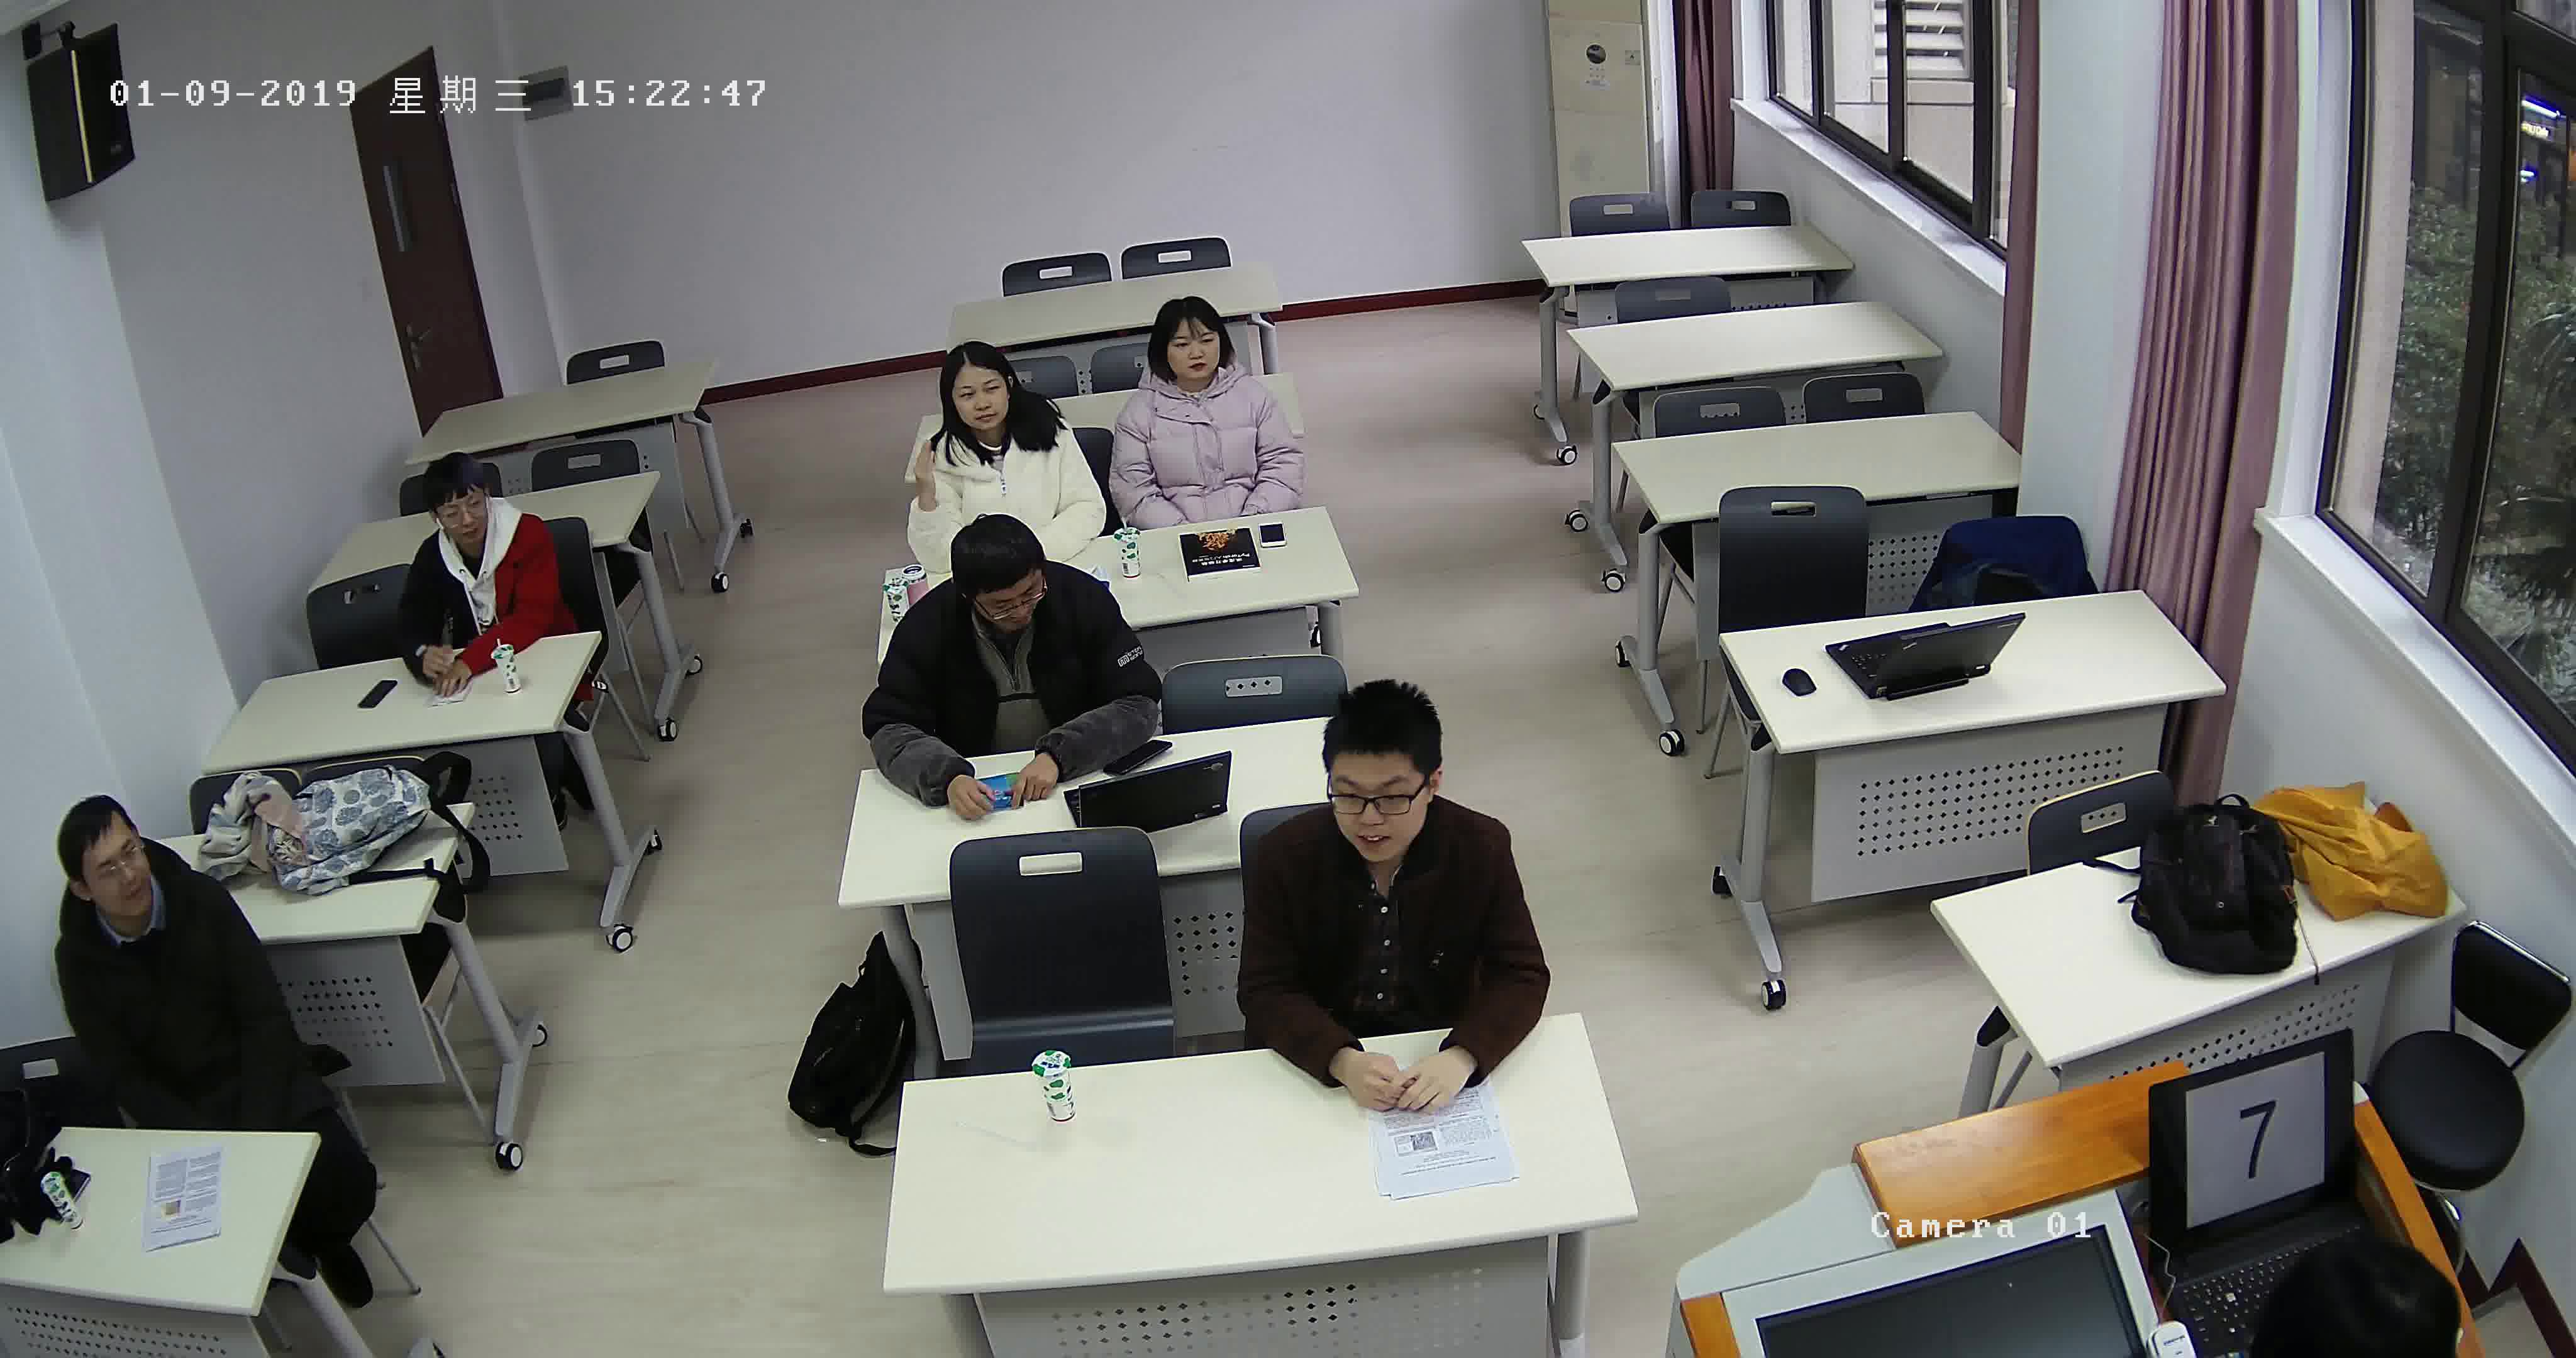laptop: (1804, 585, 2043, 704), (1053, 745, 1245, 839)
person: (1207, 676, 1553, 1132), (27, 773, 367, 1137), (827, 514, 1173, 805), (1087, 288, 1324, 558), (348, 455, 601, 703), (890, 335, 1107, 553)
phone: (348, 679, 409, 709), (1253, 514, 1289, 552)
